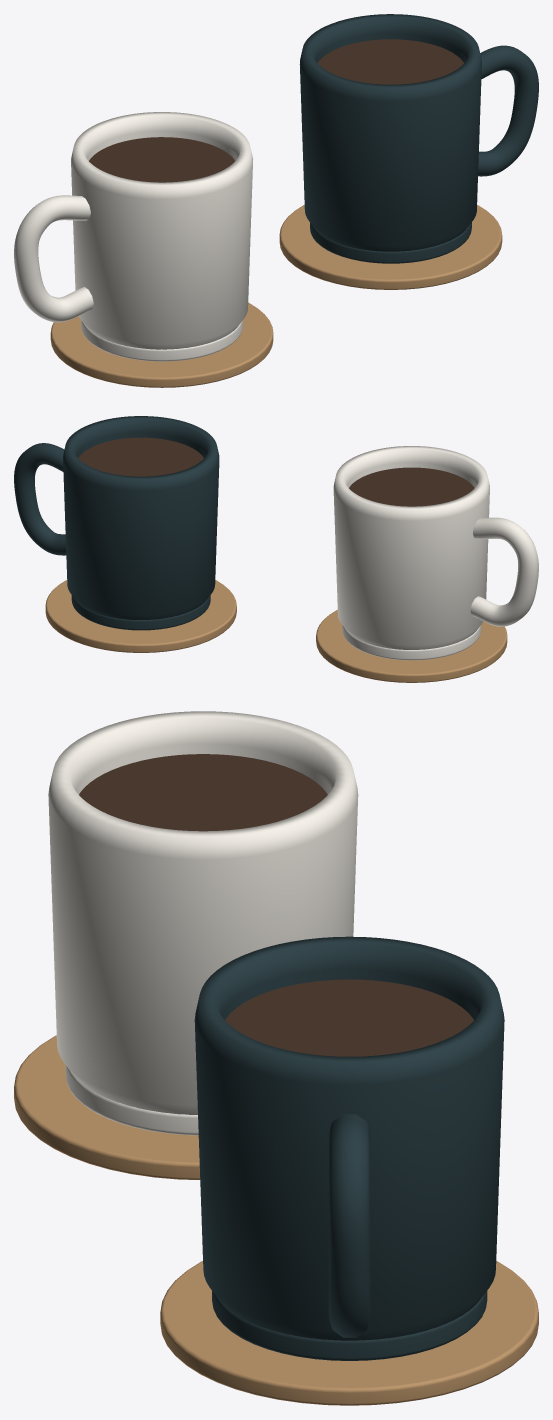
The model's file is contacts-modern.glb.
The picture shows the model from 3 angles, top to bottom: view 1: azimuth 30°, elevation 25°; view 2: azimuth 150°, elevation 25°; view 3: azimuth 270°, elevation 25°; orthographic projection. The views are drawn at different scales.
Parts seen in each view (by area): view 1: Open ceramic mug.001, Open ceramic mug, Cork coaster.001, Cork coaster, Coffee inside mug.001, Coffee inside mug, Ceramic mug handle, Ceramic mug handle.001, Ceramic mug base.001, Ceramic mug base; view 2: Open ceramic mug.001, Open ceramic mug, Cork coaster.001, Cork coaster, Coffee inside mug, Coffee inside mug.001, Ceramic mug handle, Ceramic mug handle.001, Ceramic mug base, Ceramic mug base.001; view 3: Open ceramic mug.001, Open ceramic mug, Cork coaster.001, Coffee inside mug.001, Coffee inside mug, Cork coaster, Ceramic mug handle.001, Ceramic mug base.001, Ceramic mug base.
Part boxes in pixels (x1,y1,x2,y2): Open ceramic mug.001: (299, 14, 481, 251); Open ceramic mug: (71, 112, 252, 349); Cork coaster.001: (279, 205, 502, 289); Cork coaster: (50, 302, 273, 387); Coffee inside mug.001: (317, 39, 463, 84); Coffee inside mug: (89, 137, 234, 182); Ceramic mug handle: (14, 195, 93, 322); Ceramic mug handle.001: (478, 45, 538, 176); Ceramic mug base.001: (310, 222, 471, 263); Ceramic mug base: (81, 320, 242, 361); Open ceramic mug.001: (63, 416, 219, 619); Open ceramic mug: (333, 446, 489, 649); Cork coaster.001: (45, 580, 236, 652); Cork coaster: (316, 610, 507, 682); Coffee inside mug: (349, 467, 474, 506); Coffee inside mug.001: (78, 437, 203, 476); Ceramic mug handle: (470, 517, 538, 626); Ceramic mug handle.001: (14, 443, 66, 555); Ceramic mug base: (342, 625, 481, 660); Ceramic mug base.001: (71, 595, 210, 630); Open ceramic mug.001: (194, 936, 504, 1340); Open ceramic mug: (48, 711, 358, 1114); Cork coaster.001: (160, 1261, 538, 1405); Coffee inside mug.001: (225, 979, 473, 1056); Coffee inside mug: (79, 754, 327, 831); Cork coaster: (14, 1035, 200, 1179); Ceramic mug handle.001: (328, 1114, 370, 1337); Ceramic mug base.001: (212, 1291, 487, 1360); Ceramic mug base: (65, 1065, 198, 1135).
Size of the model in its own units: 5.03 by 1.64 by 2.38.
